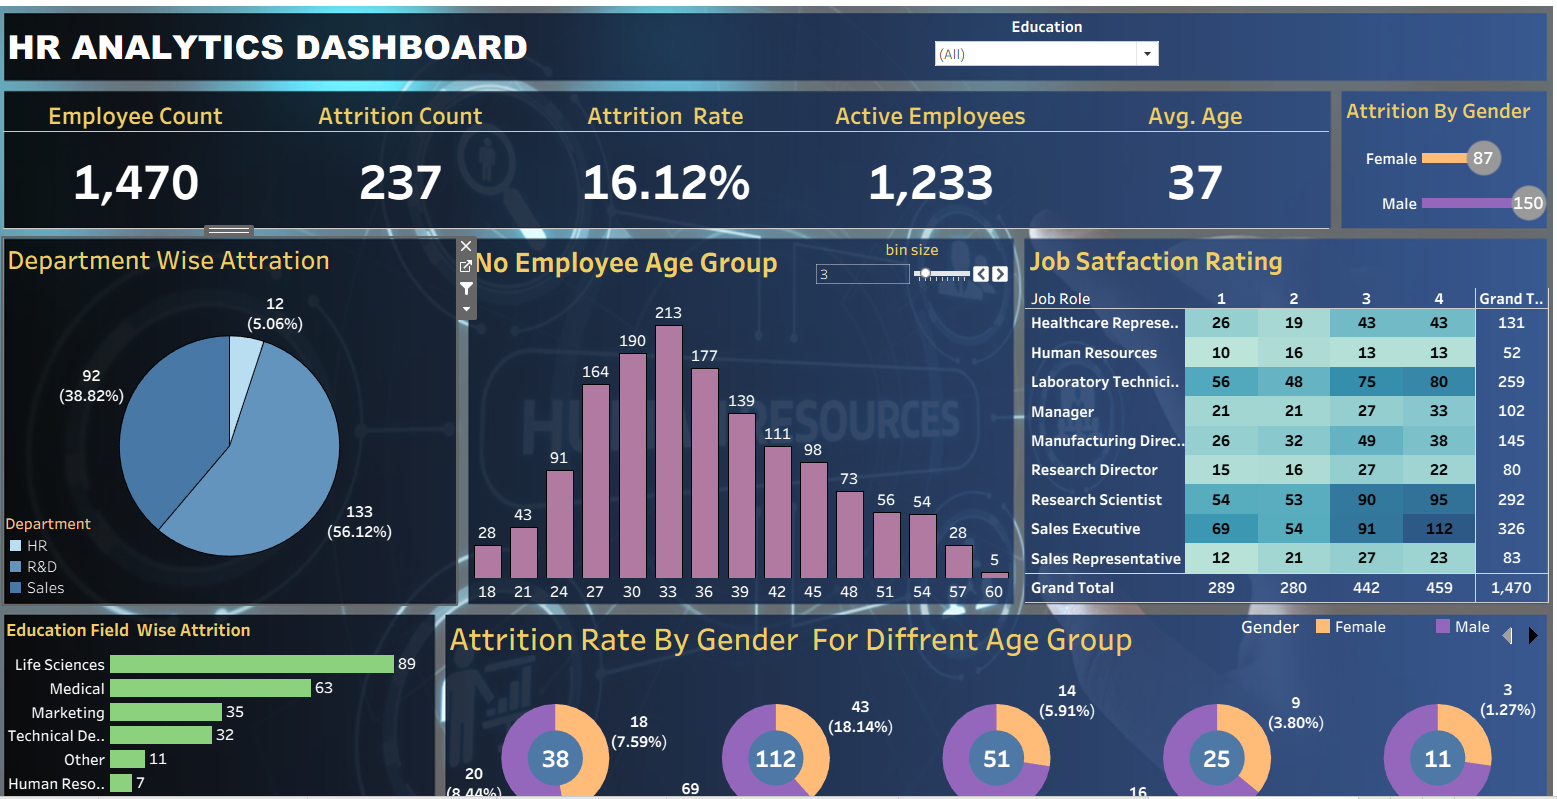

Layout of this report page (visuals, bound fields, positions):
{"tool":"tableau","page":{"name":"Hr Analystics Dashboard","canvas":[1580,900],"ordinal":0},"visuals":[{"type":"image","param":"Image/HR  Back ground pic.png","box":[8,8,1564,884]},{"type":"text","box":[19,19,528,67]},{"type":"filter","title":"KPIS","param":"[federated.1lhodwh10oa0u21g2pmtj1s3khl0].[none:Education:nk]","box":[947,22,230,55]},{"type":"worksheet","title":"KPIS","mark":"Automatic","box":[18,97,1326,138]},{"type":"worksheet","title":"Attrition By Gender  ","mark":"Automatic","rows":["Gender"],"cols":["Calculation_214483979894054912","Calculation_214483979894054912"],"box":[1357,98,210,134]},{"type":"worksheet","title":"Department Wise Attration","mark":"Pie","box":[18,244,453,366]},{"type":"worksheet","title":"No Employee Age Group","mark":"Automatic","rows":["Employee Count"],"cols":["Age (bin)"],"box":[484,245,544,364]},{"type":"parameter","param":"[Parameters].[Parameter 1]","box":[828,245,198,51]},{"type":"worksheet","title":"Job Satfaction Rating","mark":"Square","rows":["Job Role"],"cols":["Job Satisfaction"],"box":[1040,245,524,364]},{"type":"legend","title":"Department Wise Attration","param":"[federated.1lhodwh10oa0u21g2pmtj1s3khl0].[none:Department:nk]","box":[20,519,88,89]},{"type":"worksheet","title":"Attrition Rate By Gender  For Diffrent Age Group ","mark":"Pie","rows":["Calculation_214483979949125636","Calculation_214483979949125636"],"cols":["CF_age band"],"box":[460,619,1103,262]},{"type":"worksheet","title":"Education Field  Wise Attrition","mark":"Automatic","rows":["Education Field"],"cols":["Calculation_214483979894054912"],"box":[17,620,433,181]},{"type":"legend","title":"Attrition Rate By Gender  For Diffrent Age Group ","param":"[federated.1lhodwh10oa0u21g2pmtj1s3khl0].[none:Gender:nk]","box":[1256,622,307,39]}]}

Visuals, with their boxes on the page's 1580x900 design canvas (x1, y1, x2, y2). These are canvas units, not pixel positions in the 1557x799 screenshot, which may show the page scaled, cropped or inside an application window:
image: pyautogui.locateOnScreen(8, 8, 1572, 892)
text: pyautogui.locateOnScreen(19, 19, 547, 86)
"KPIS" filter: pyautogui.locateOnScreen(947, 22, 1177, 77)
"KPIS" worksheet: pyautogui.locateOnScreen(18, 97, 1344, 235)
"Attrition By Gender  " worksheet: pyautogui.locateOnScreen(1357, 98, 1567, 232)
"Department Wise Attration" worksheet (Pie marks): pyautogui.locateOnScreen(18, 244, 471, 610)
"No Employee Age Group" worksheet: pyautogui.locateOnScreen(484, 245, 1028, 609)
parameter: pyautogui.locateOnScreen(828, 245, 1026, 296)
"Job Satfaction Rating" worksheet (Square marks): pyautogui.locateOnScreen(1040, 245, 1564, 609)
"Department Wise Attration" legend: pyautogui.locateOnScreen(20, 519, 108, 608)
"Attrition Rate By Gender  For Diffrent Age Group " worksheet (Pie marks): pyautogui.locateOnScreen(460, 619, 1563, 881)
"Education Field  Wise Attrition" worksheet: pyautogui.locateOnScreen(17, 620, 450, 801)
"Attrition Rate By Gender  For Diffrent Age Group " legend: pyautogui.locateOnScreen(1256, 622, 1563, 661)
